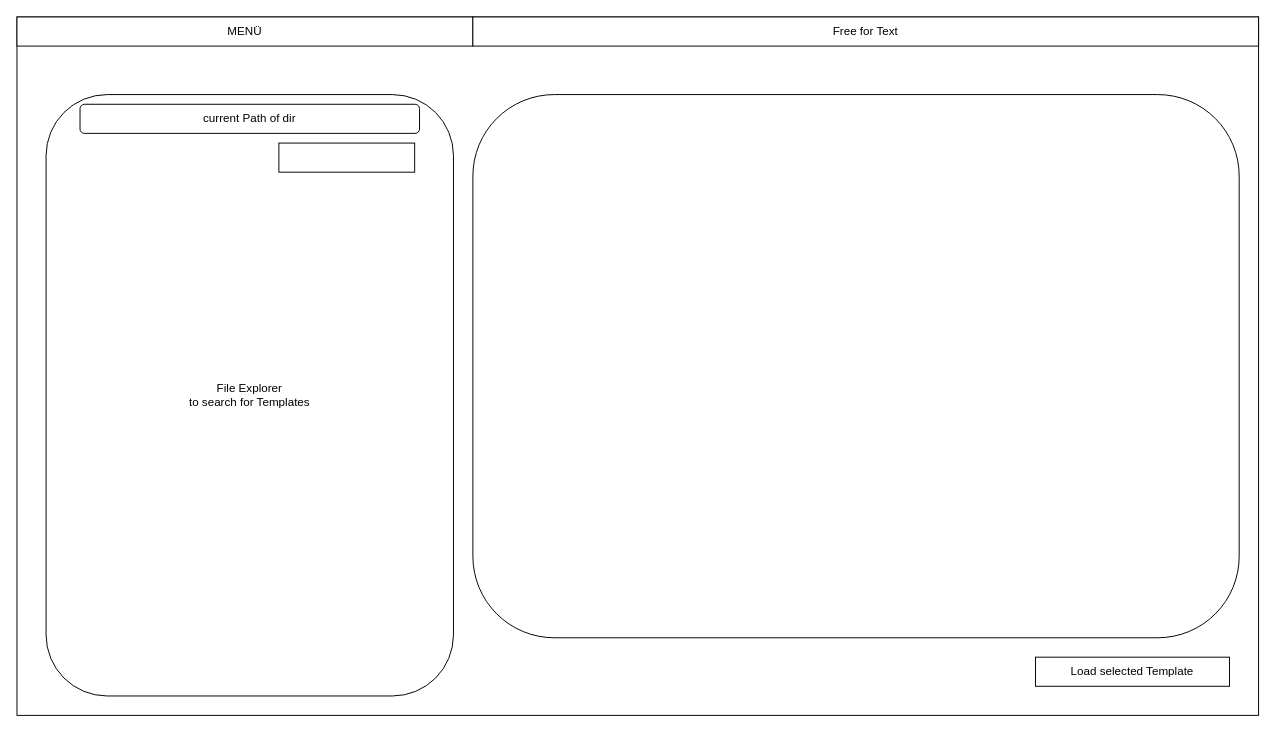
Image size: 1276x732. Some labels were removed from this diagram. Each missing label, with the centre of its shape:
Preview of selected Template: [855,366]
Search Bar: [346,157]
